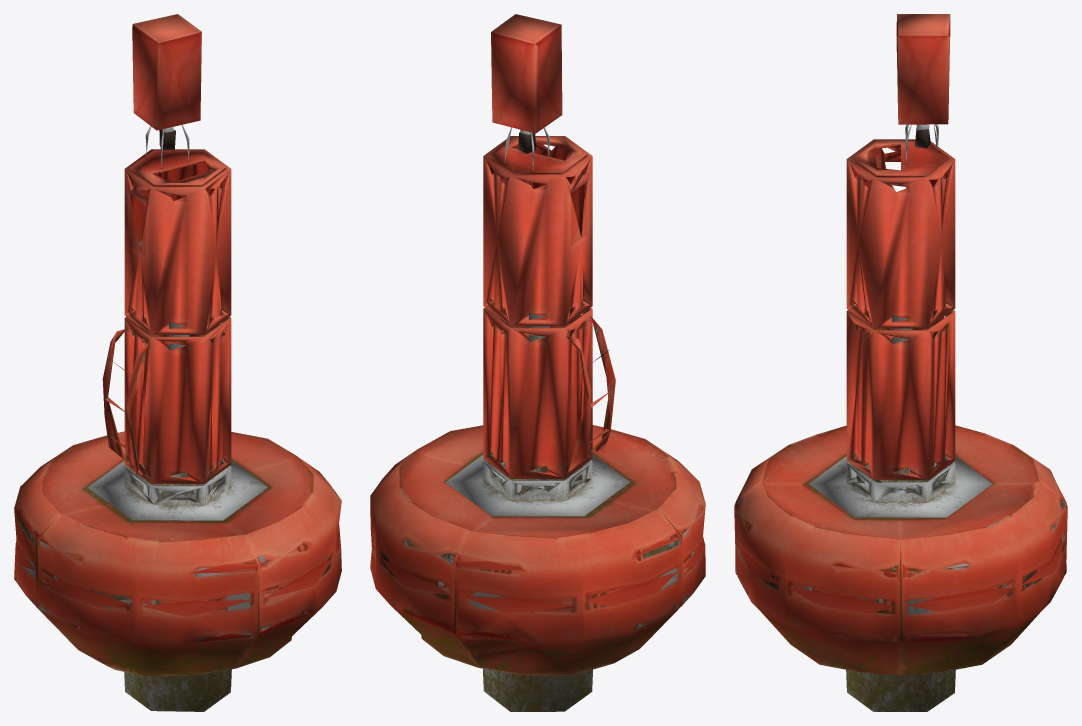
File: sea_marker.glb
3 views of the same model, side by side, from view 1: azimuth 30°, elevation 25°; view 2: azimuth 150°, elevation 25°; view 3: azimuth 270°, elevation 25° (orthographic). The views are drawn at different scales.
Visible parts, largest first — view 1: sea_marker; view 2: sea_marker; view 3: sea_marker.
Boxes of the visible parts, x1,y1,x2,y2 form: sea_marker: (14, 14, 341, 711); sea_marker: (370, 14, 705, 711); sea_marker: (734, 14, 1067, 711).
Size of the model in its own units: 3.02 by 6.8 by 3.02.
Materials: 1 (1 with a texture image).
